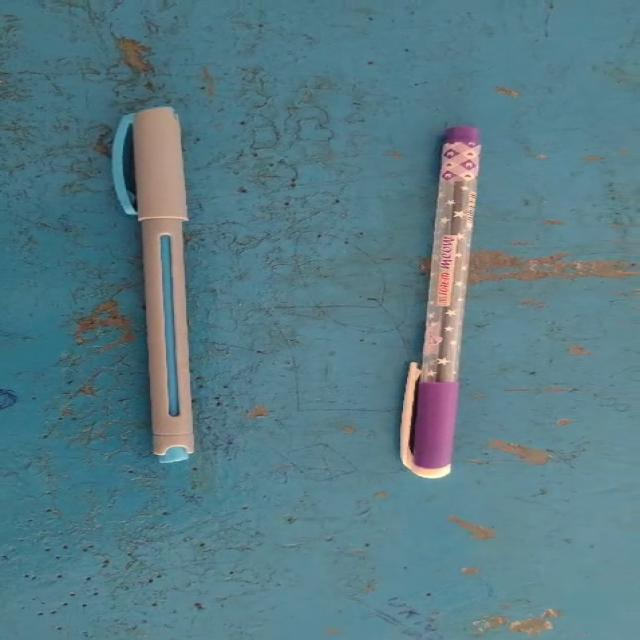pen: (29, 39, 309, 534), (366, 109, 532, 494)
